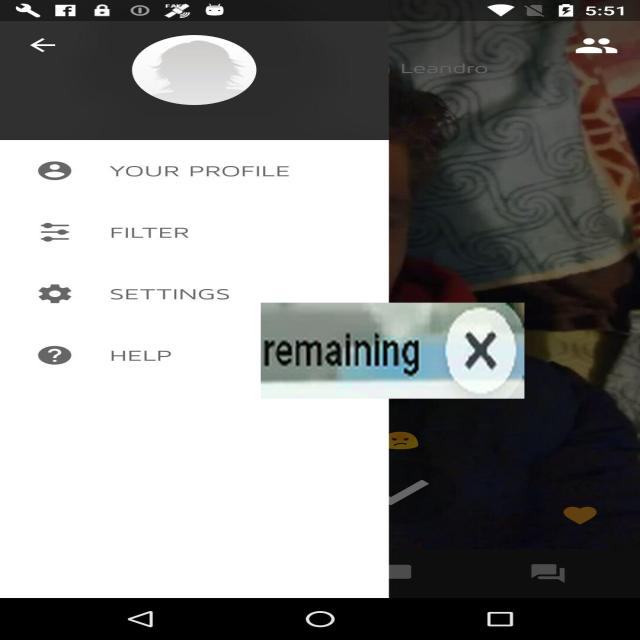misdirection: (261, 302, 524, 398)
